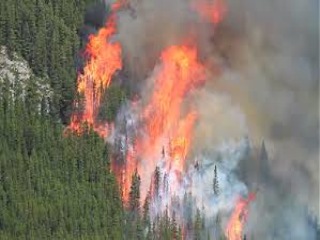fire: (147, 46, 203, 186), (68, 23, 121, 140), (224, 197, 254, 240)
smoke: (206, 14, 311, 165), (250, 137, 320, 238), (122, 1, 186, 102), (195, 160, 249, 202)
